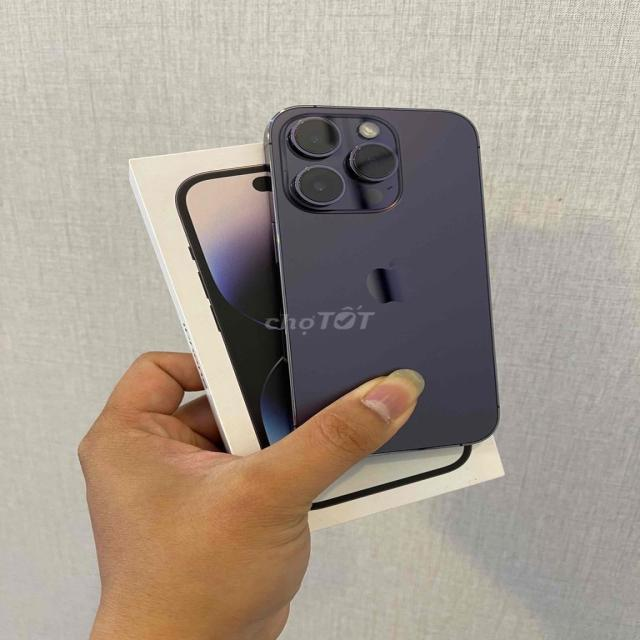gen_14: (266, 93, 508, 462)
